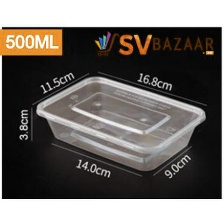plastic_box: (31, 70, 211, 177)
